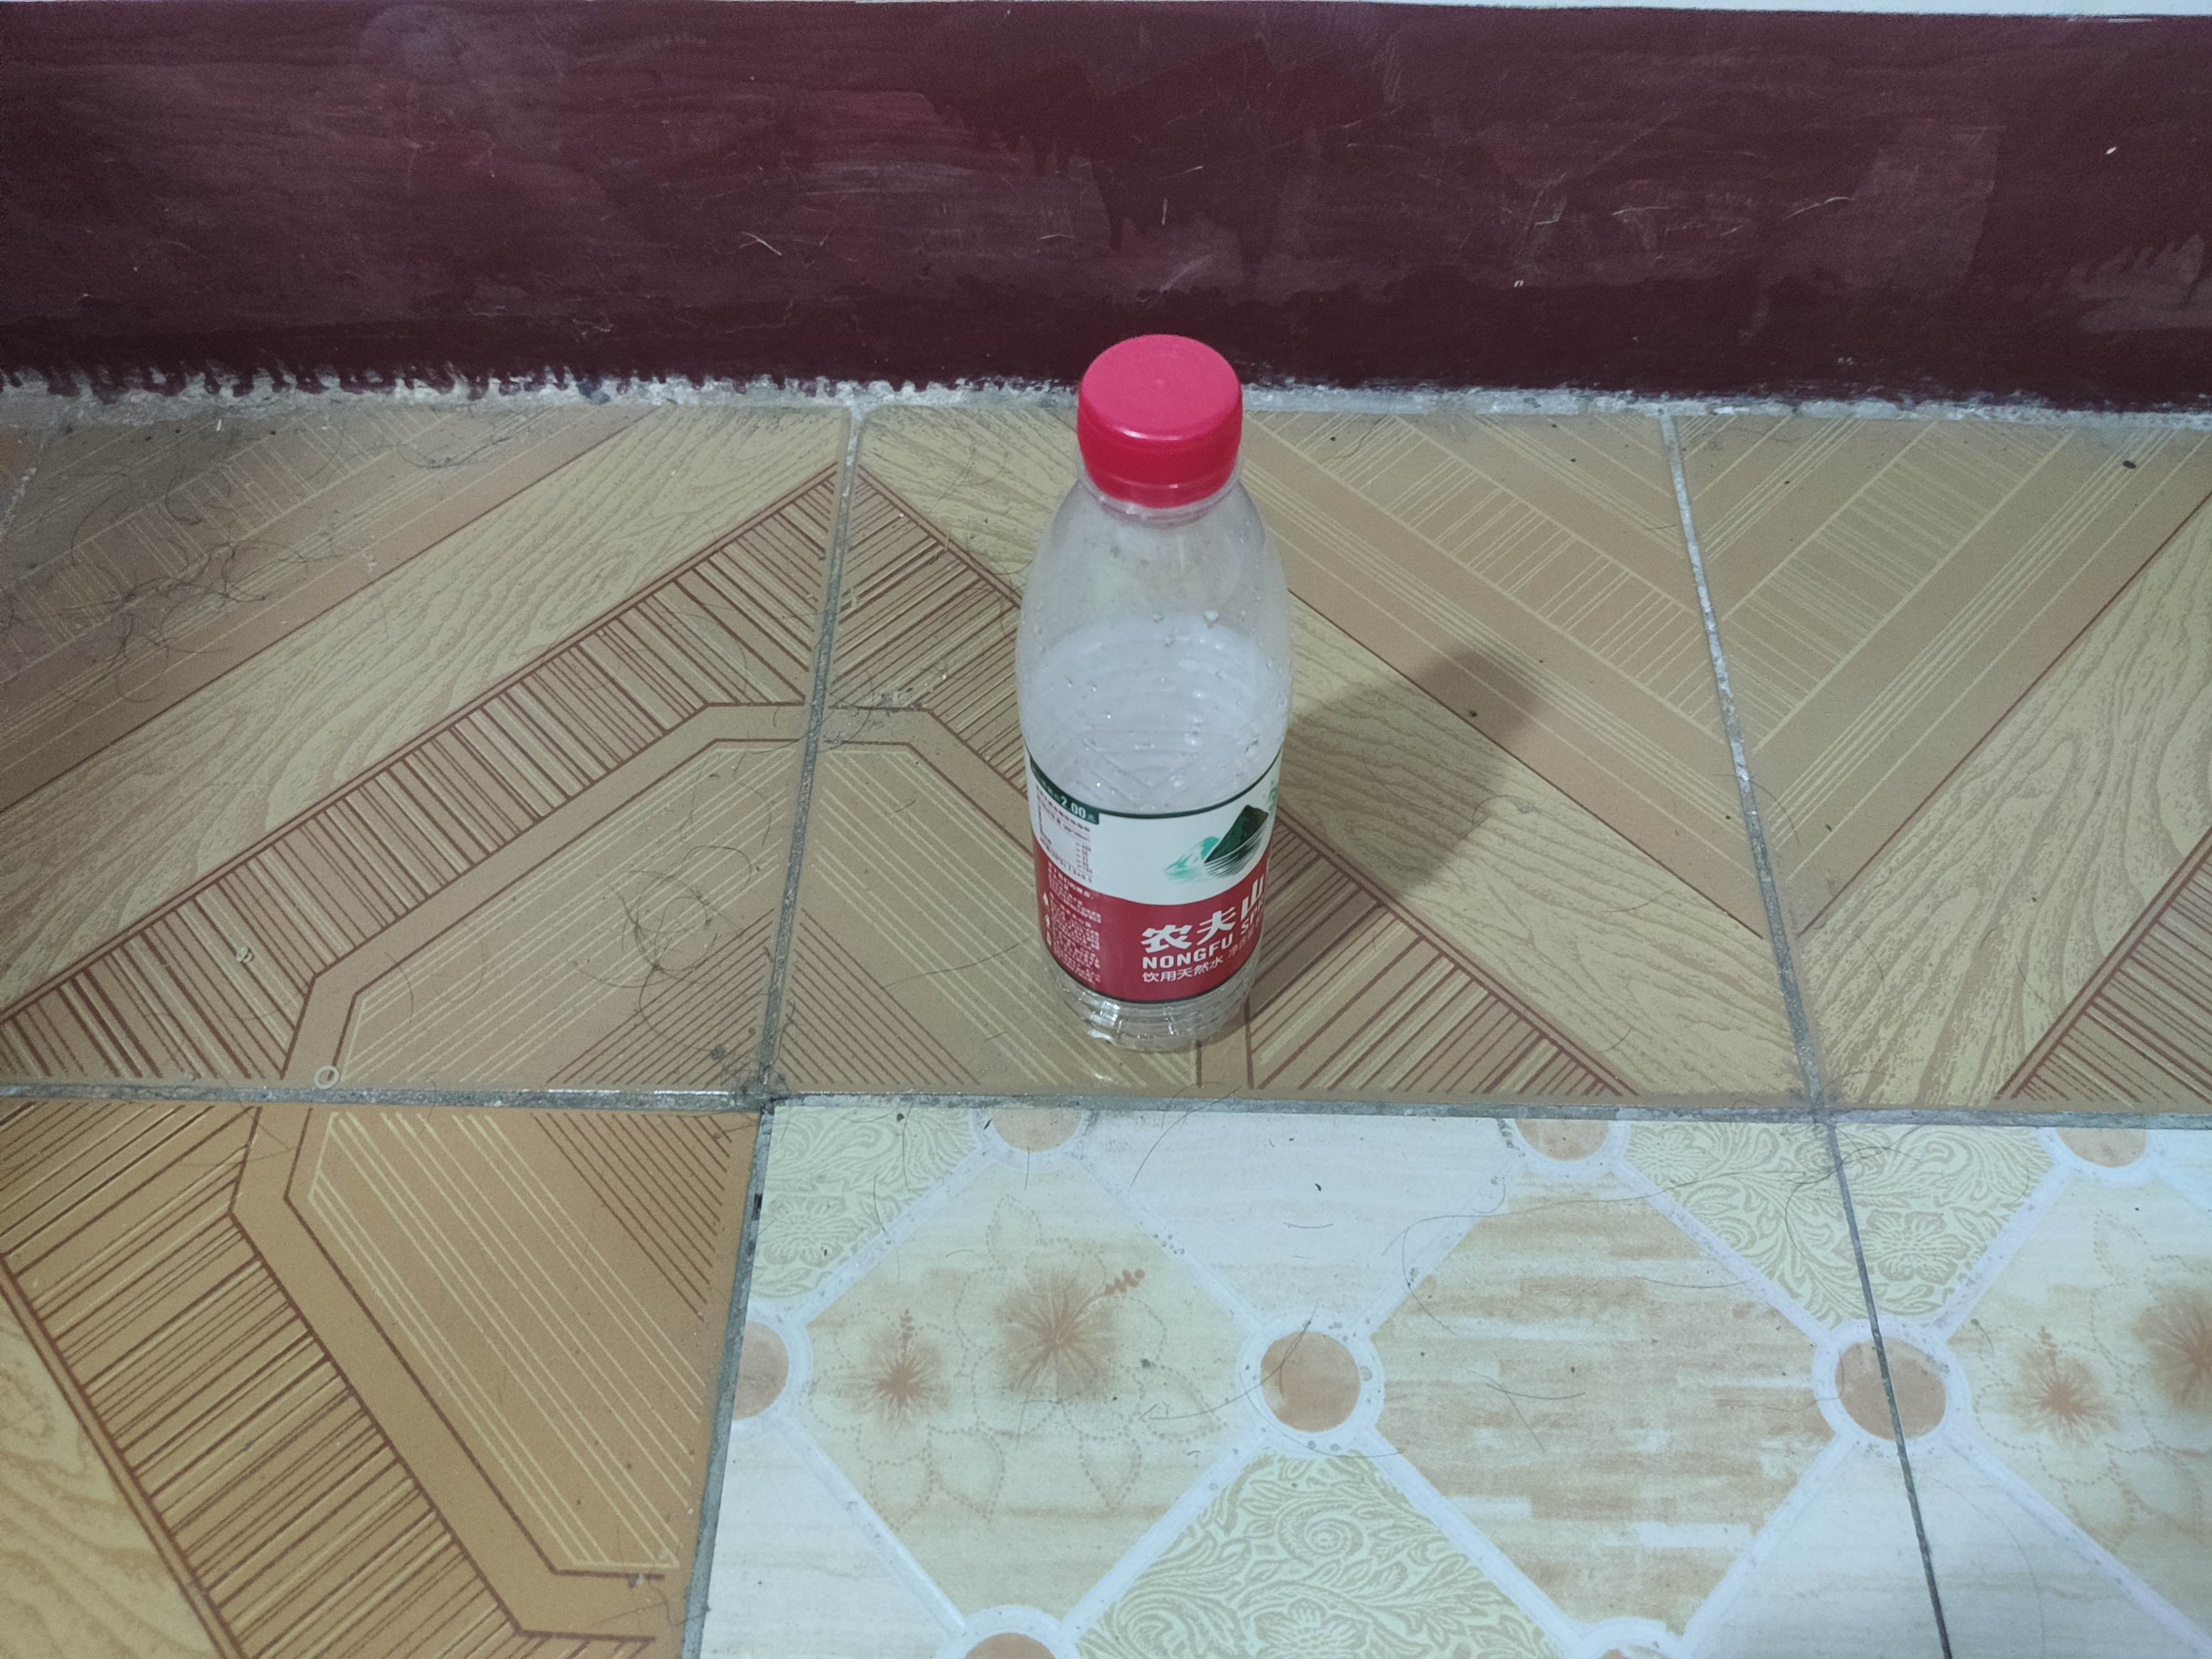Plastic Bottle: (1008, 322, 1298, 1060)
